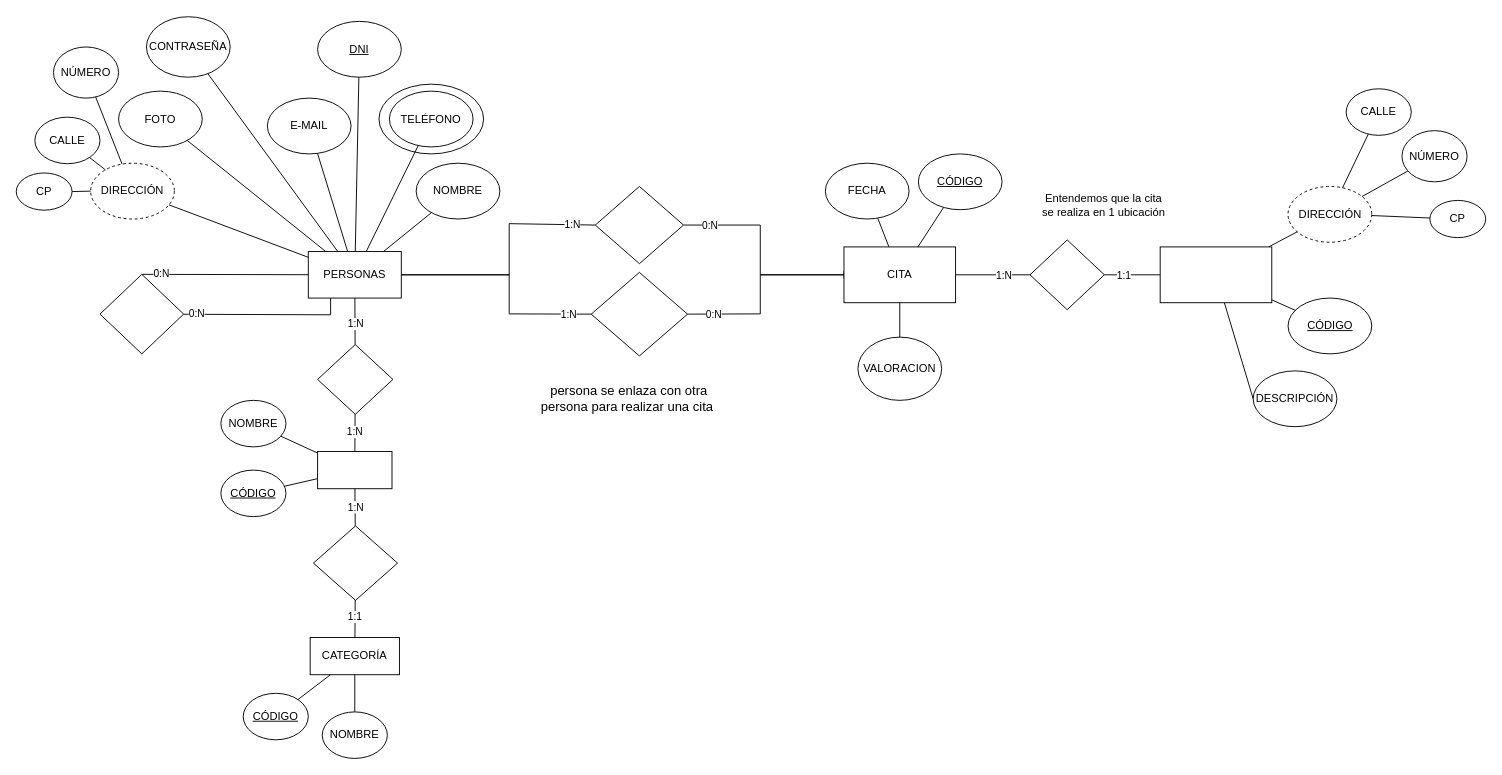
Some shapes in this 1502 by 775 pixel diagram are drawn without their labels. Here are the shapes that lost their labels. From the top down, the box of each, then its label:
(594, 186, 684, 264): COINCIDE
(1029, 239, 1104, 310): REALIZA
(1159, 246, 1272, 303): UBICACIÓN
(99, 273, 184, 354): SE GUSTAN
(590, 271, 688, 356): NO COINCIDE
(317, 344, 393, 414): ELIGE
(317, 451, 392, 489): AFICIÓN
(312, 525, 398, 600): CONTIENE
